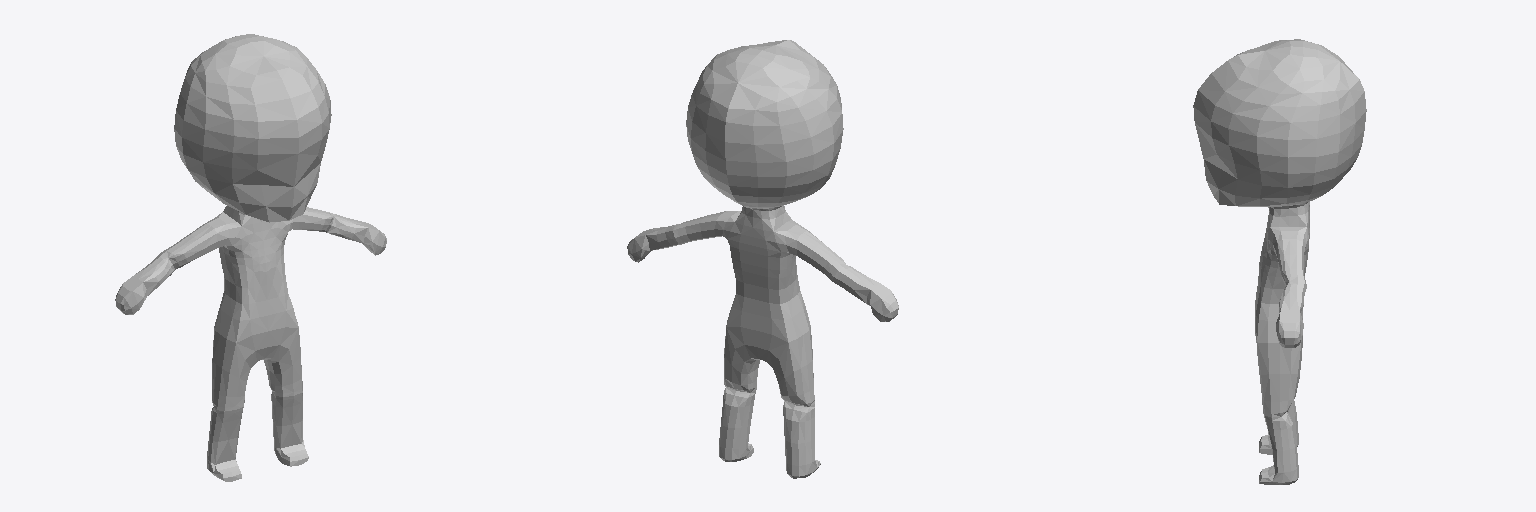
The model's file is charcter.obj.
3 views of the same model, side by side, from view 1: azimuth 30°, elevation 25°; view 2: azimuth 150°, elevation 25°; view 3: azimuth 270°, elevation 25° (orthographic).
Parts seen in each view (by area): view 1: Base_Cube; view 2: Base_Cube; view 3: Base_Cube.
Part boxes in pixels (x1,y1,x2,y2): Base_Cube: (115,34,386,481); Base_Cube: (627,40,898,478); Base_Cube: (1193,39,1366,484).
Bounding box in the file's own units: 4.05 × 6.08 × 2.28.